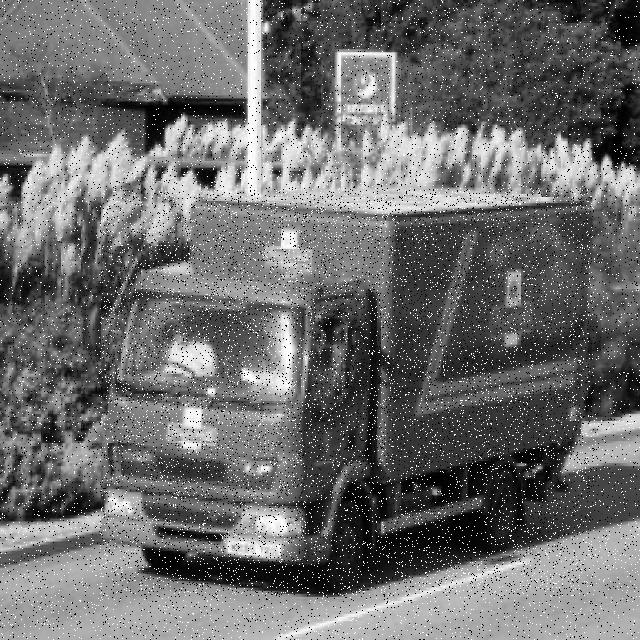Box Truck: (100, 188, 594, 596)
